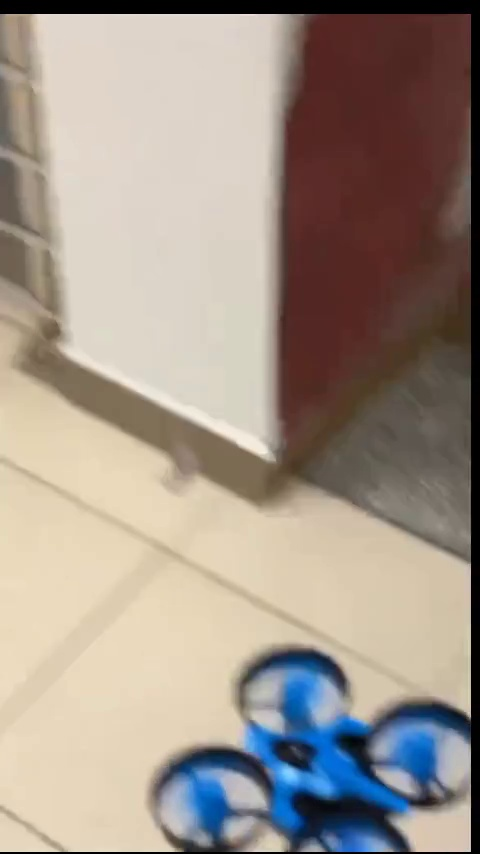drone: (147, 644, 468, 848)
